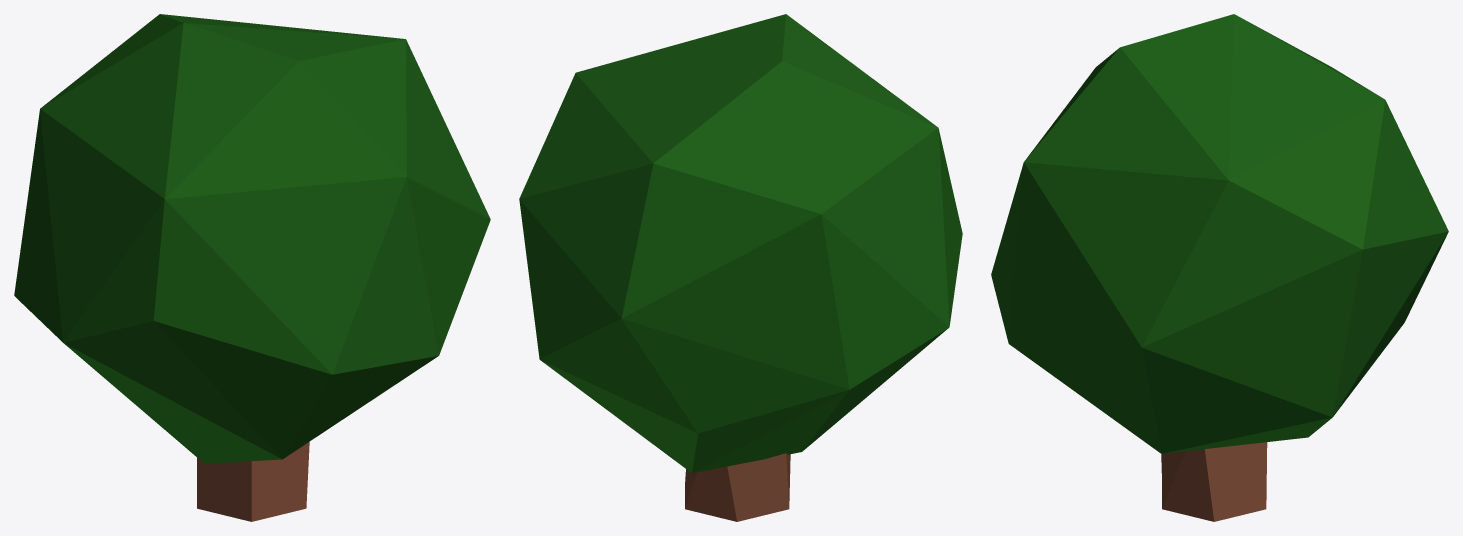
Rendered from bush_3_autumn_vc.fbx.
The picture shows the model from 3 angles, left to right: view 1: azimuth 30°, elevation 25°; view 2: azimuth 150°, elevation 25°; view 3: azimuth 270°, elevation 25°; orthographic projection. The views are drawn at different scales.
Parts seen in each view (by area): view 1: bush_3_autumn_vc; view 2: bush_3_autumn_vc; view 3: bush_3_autumn_vc.
Boxes of the visible parts, <box> form: bush_3_autumn_vc: <box>14,14,490,521</box>; bush_3_autumn_vc: <box>519,14,962,521</box>; bush_3_autumn_vc: <box>991,14,1448,521</box>.
Size of the model in its own units: 0.91 by 1.02 by 0.9319.
